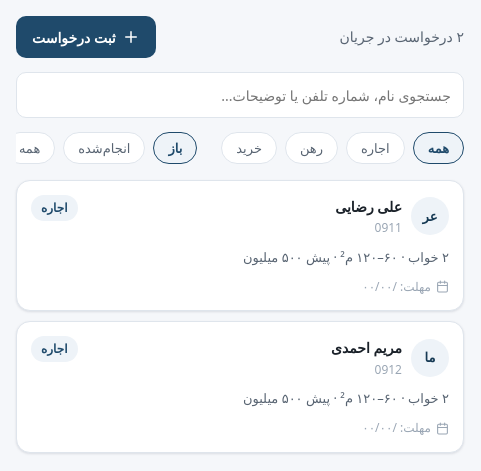
Test: RequestsScreen › filters client-side by customer name
This screenshot has width=481, height=471.
Expected: the text "علی رضایی" is shown, [335,195,402,218]
Type "مریم" into the search field at (240, 95), box [16,72,464,118]
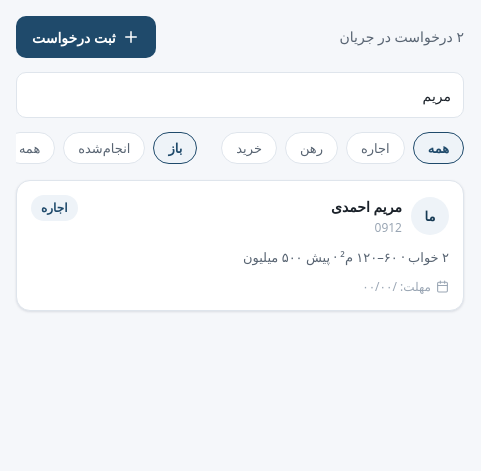
Expected: the text "مریم احمدی" is shown, [331,195,402,218]
Expected: the text "علی رضایی" is gone
